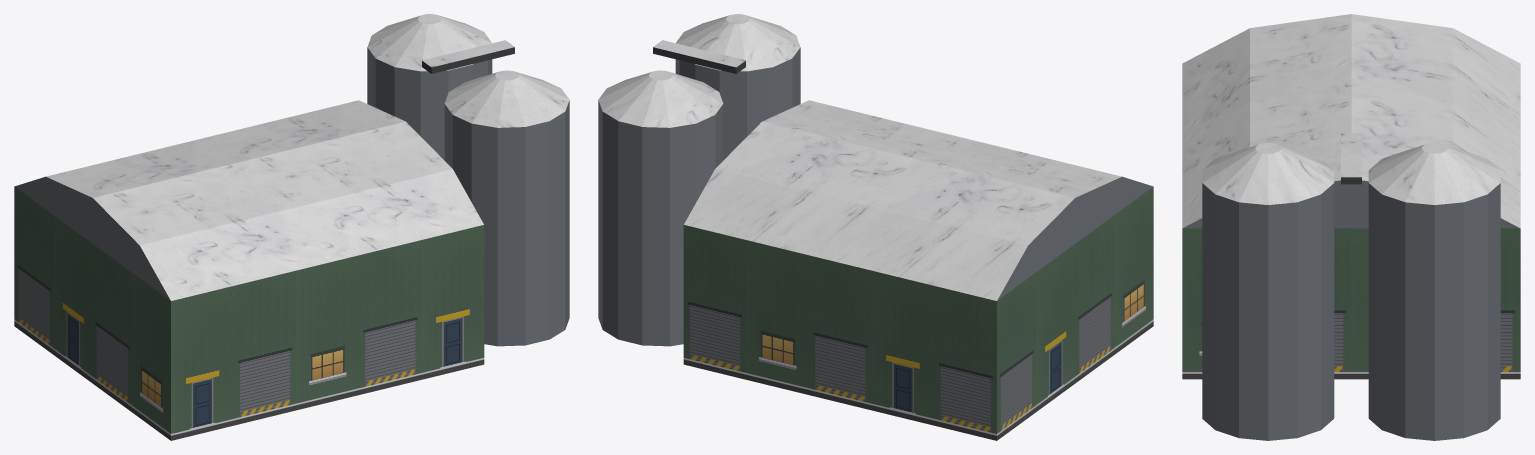
The model's file is c_warehouse.glb.
3 renders of one model, left to right at view 1: azimuth 30°, elevation 25°; view 2: azimuth 150°, elevation 25°; view 3: azimuth 270°, elevation 25°, orthographic. The views are drawn at different scales.
Parts seen in each view (by area): view 1: House; view 2: House; view 3: House.
Boxes of the visible parts, box(x1,y1,x2,y2) form: House: box(14, 14, 569, 440); House: box(598, 14, 1153, 440); House: box(1182, 14, 1520, 440).
Size of the model in its own units: 20.6 by 11.2 by 13.
Materials: 3 (3 with a texture image).
